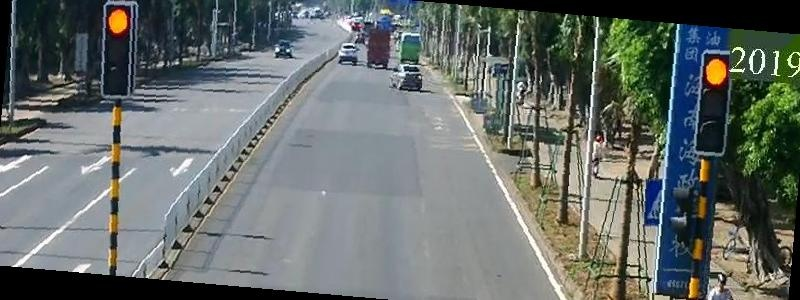red: (93, 7, 149, 39), (699, 54, 728, 92)
